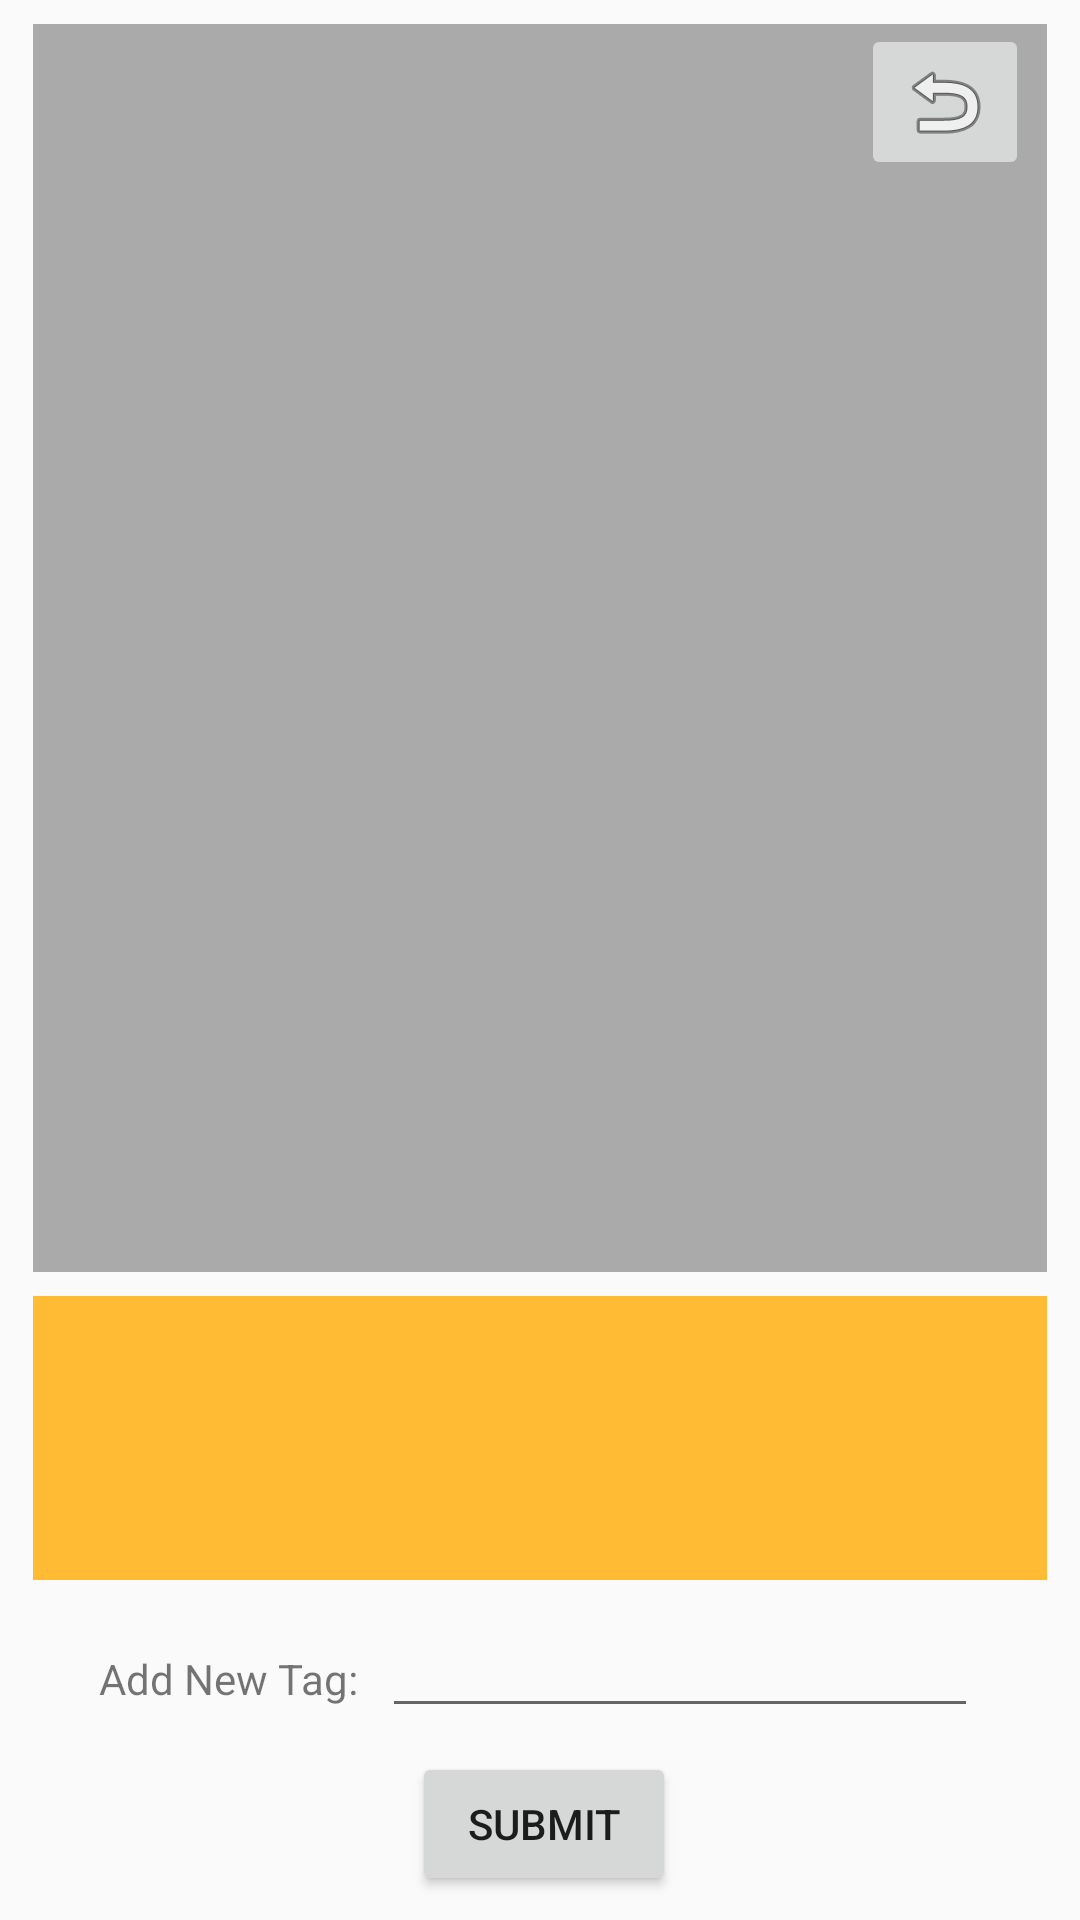

Where to tap for icons on this 1080×1920 app screen, as (x=x, y=y):
revert: (x=945, y=102)
